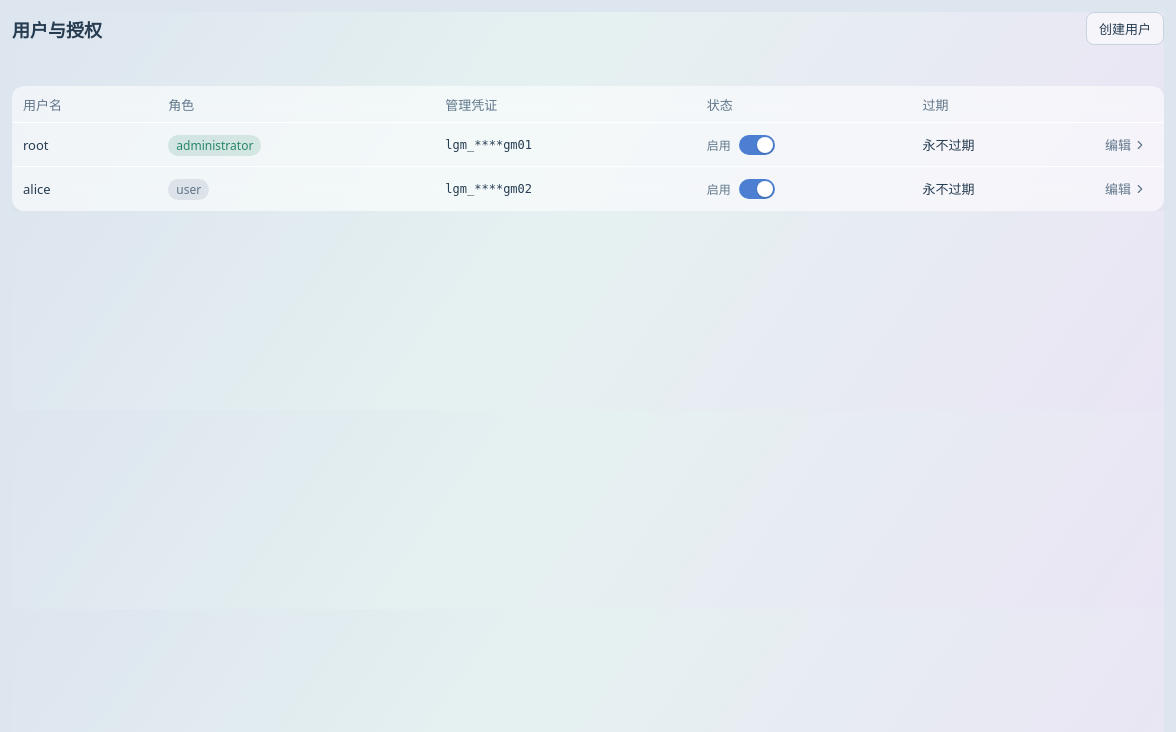
Test case: UsersPanel（表格列表 + 编辑整页，UI 2.0） › toggles a user from the row switch and refreshes
Click the checkbox named "停用" in the row of "alice" at [757, 188], box [739,178,775,198]
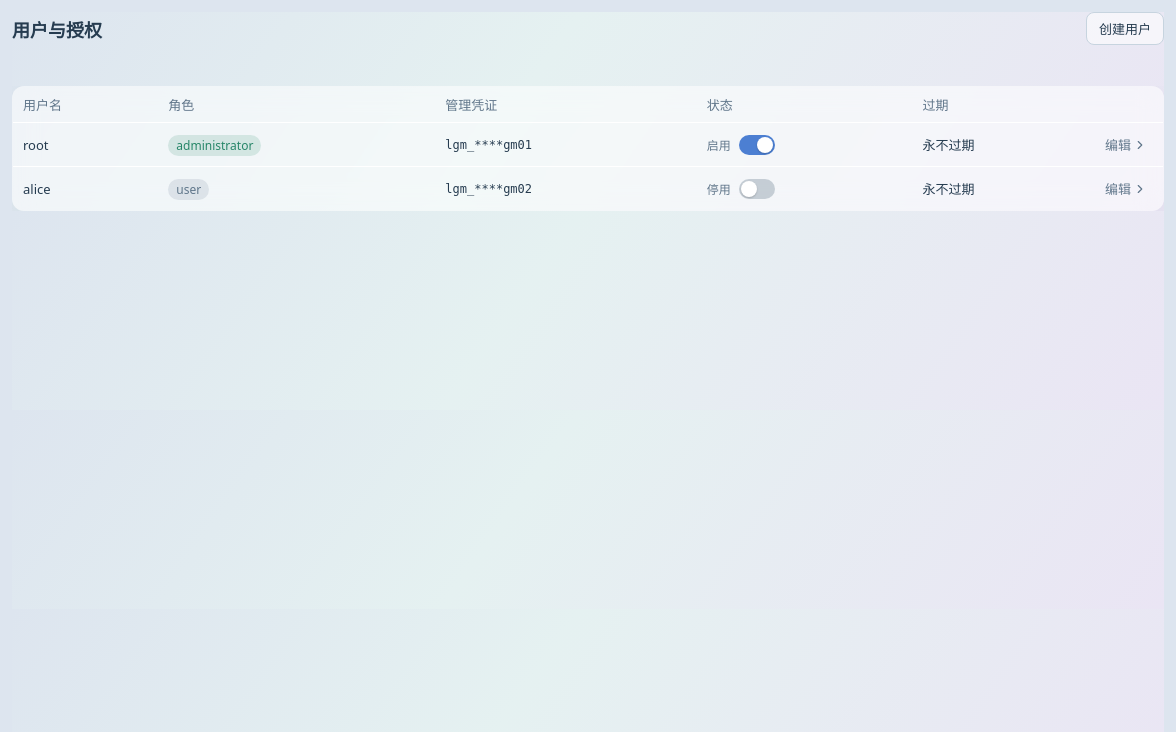
Result: the checkbox named "启用" is shown at [739,178,775,198]
Result: the row "alice user lgm_****gm02 停用 永不过期 编辑" is shown at [12,166,1164,210]
